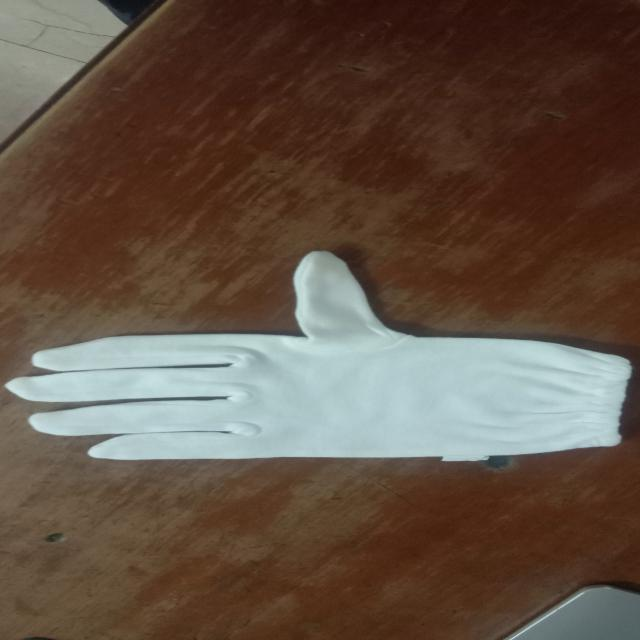gloved_hand: (4, 246, 634, 474)
